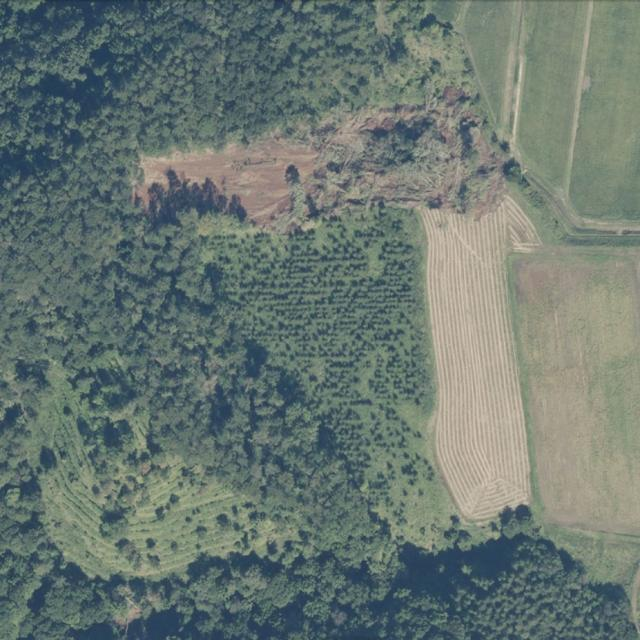landslide: (139, 2, 509, 231)
